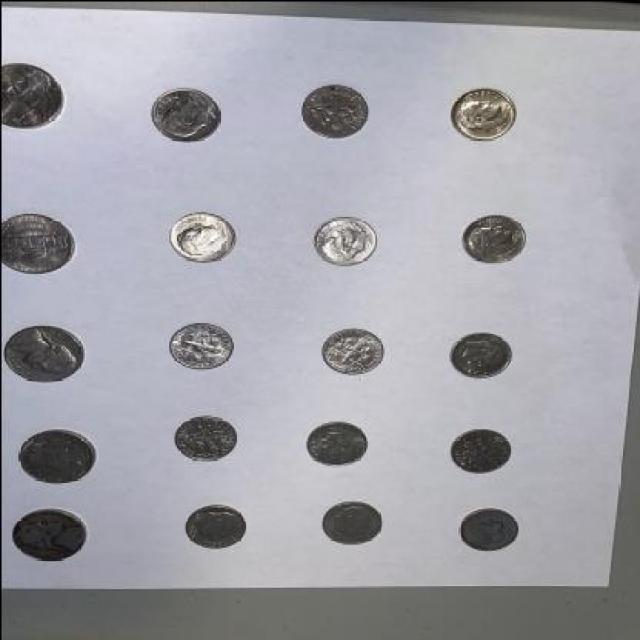Dime: (164, 210, 238, 264), (460, 209, 526, 268), (450, 85, 516, 142), (302, 84, 369, 140), (172, 409, 237, 462), (307, 215, 378, 263), (183, 500, 248, 552), (320, 324, 385, 376), (168, 322, 234, 372), (457, 506, 525, 552), (448, 331, 514, 378), (318, 500, 384, 546), (449, 426, 511, 474), (306, 420, 369, 466)
Nickel: (3, 322, 85, 384), (3, 209, 79, 274), (0, 56, 65, 132), (142, 86, 224, 145), (10, 503, 90, 562), (15, 428, 97, 483)
